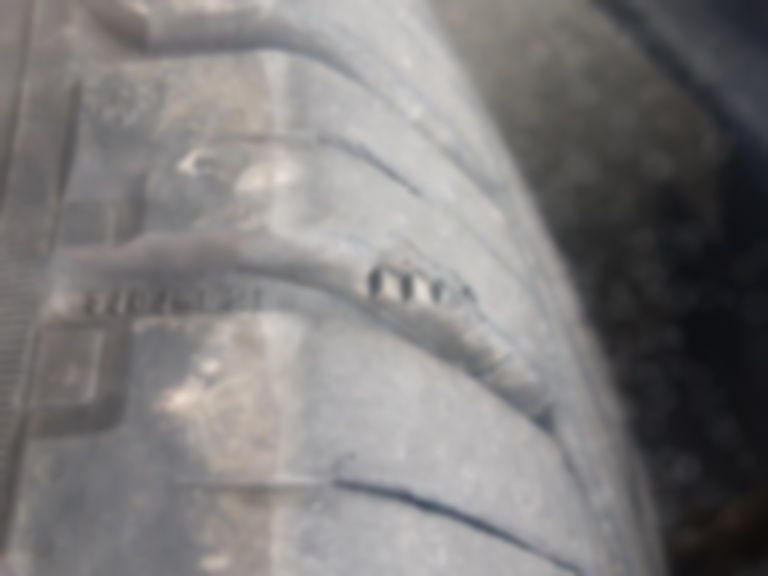temoin:80: (335, 225, 490, 356)
